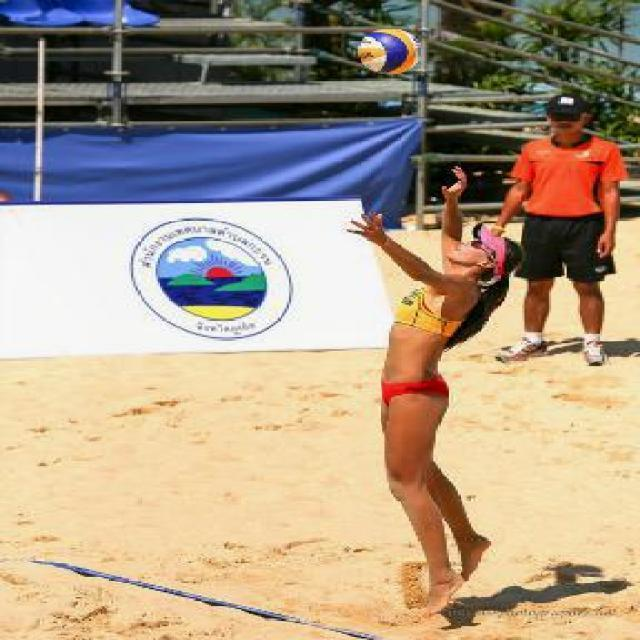volleyball: (358, 27, 418, 74)
